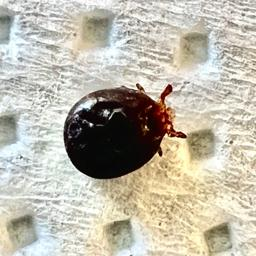Rhipicephalus sanguineus: (63, 82, 188, 180)
